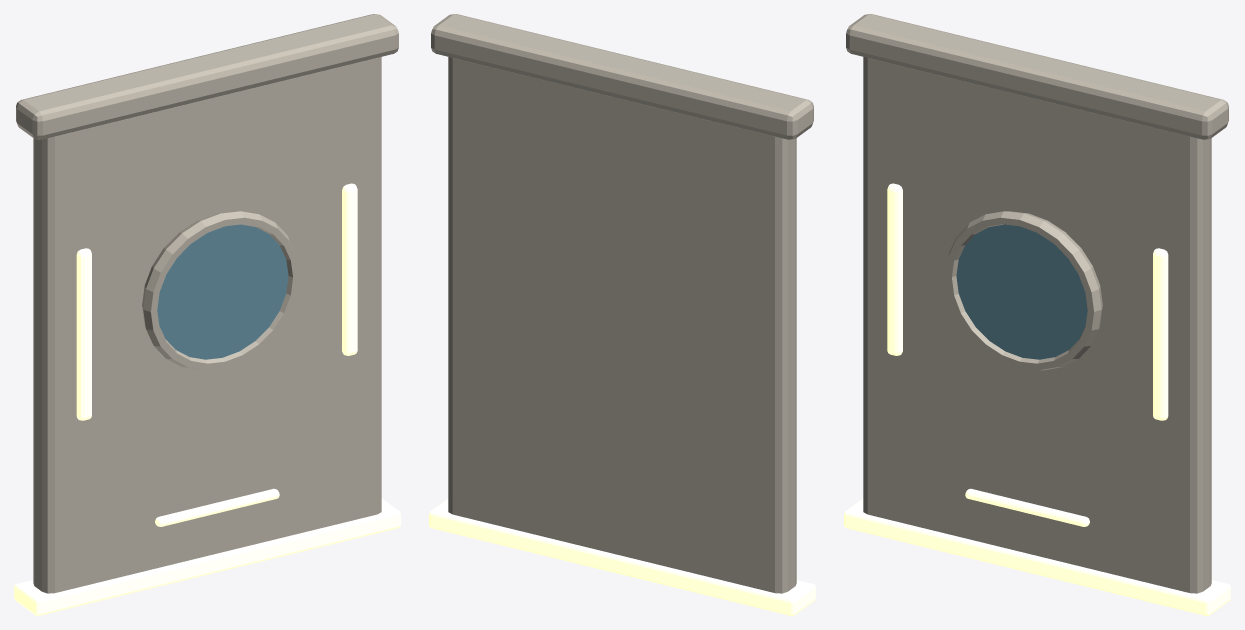
The model's file is cafe_partition.glb.
3 views of the same model, side by side, from view 1: azimuth 30°, elevation 25°; view 2: azimuth 150°, elevation 25°; view 3: azimuth 330°, elevation 25° (orthographic).
Parts seen in each view (by area): view 1: Cube.001; view 2: Cube.001; view 3: Cube.001.
Boxes of the visible parts, x1,y1,x2,y2 form: Cube.001: (14, 14, 400, 615); Cube.001: (429, 14, 815, 615); Cube.001: (844, 14, 1230, 615).
Size of the model in its own units: 2.7 by 3.54 by 0.3765.
